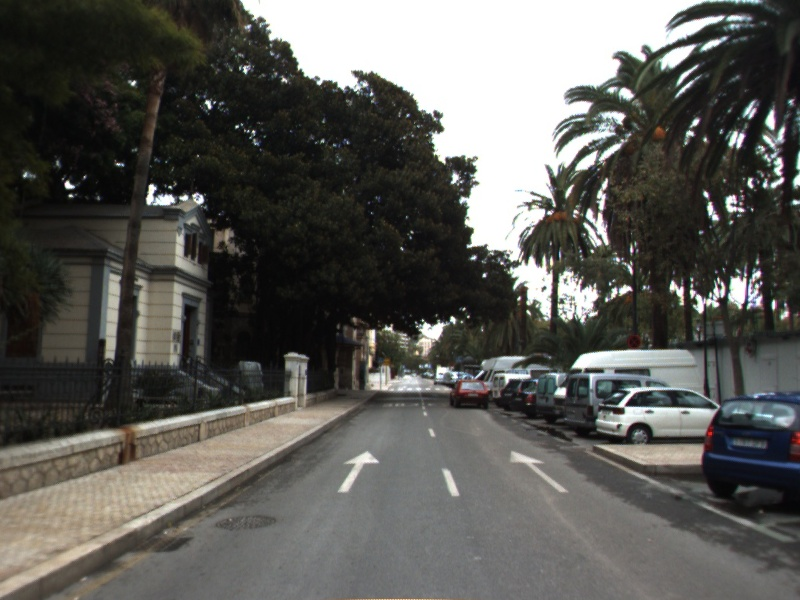STRAIGHT: (508, 448, 570, 494), (336, 449, 381, 494)
